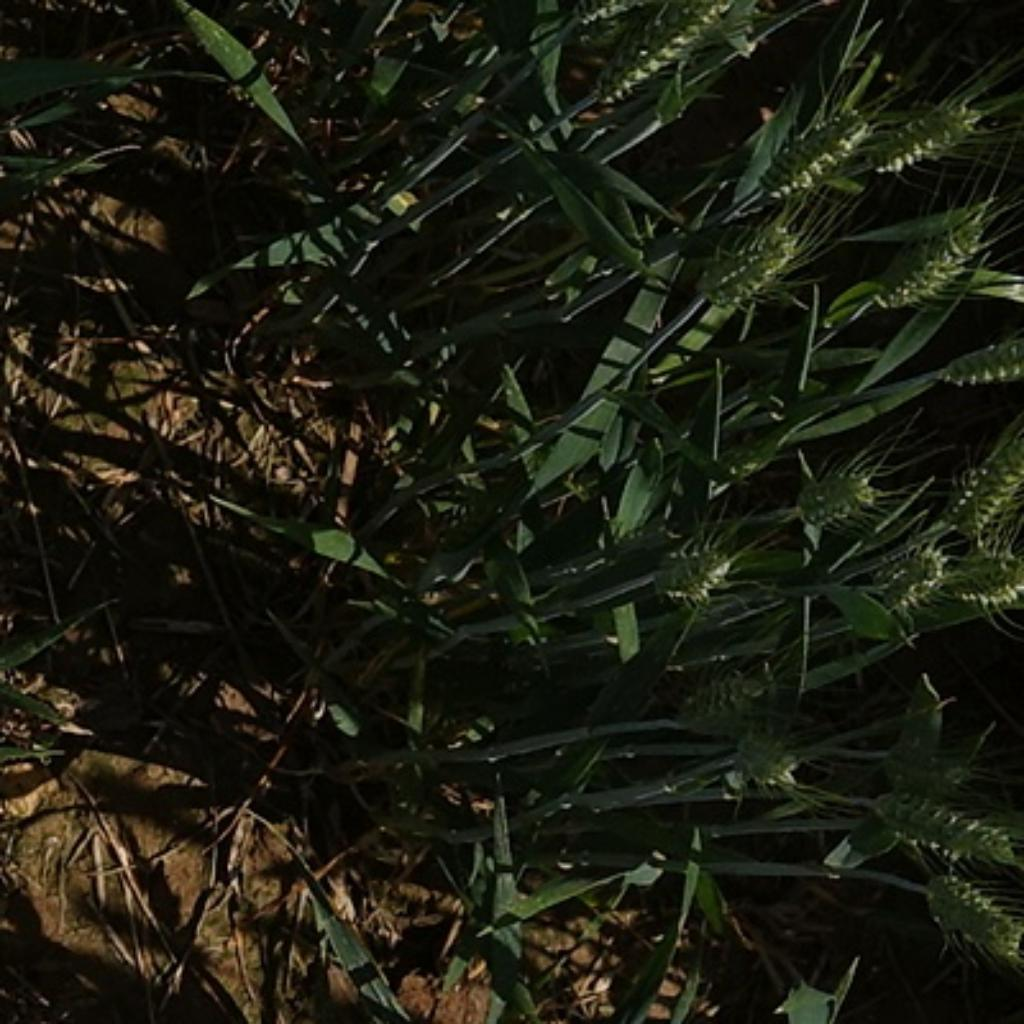0-0: (865, 197, 998, 309), (606, 0, 737, 111), (732, 102, 872, 199), (863, 783, 1024, 865), (688, 204, 808, 312), (867, 99, 990, 189), (663, 657, 796, 729), (932, 867, 1024, 965), (947, 419, 1024, 532), (865, 529, 962, 616), (642, 527, 737, 609), (922, 327, 1024, 402), (788, 453, 883, 532), (716, 711, 803, 793), (939, 545, 1021, 614)
